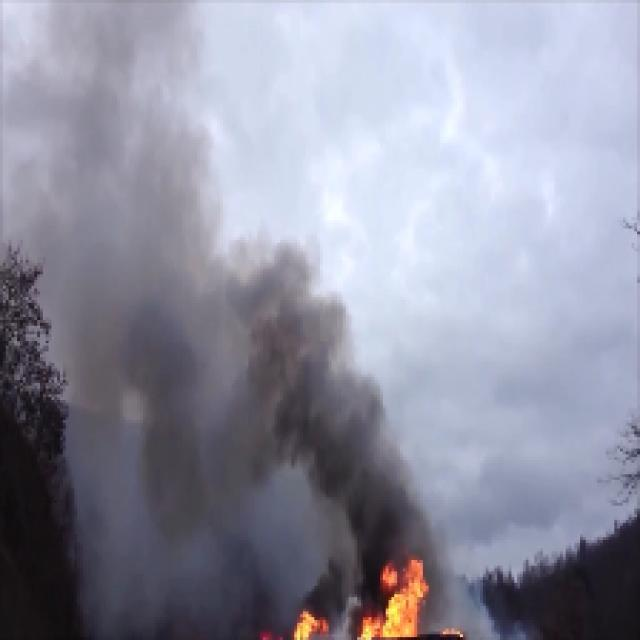Fire: (366, 563, 427, 640), (297, 614, 319, 638)
Smoke: (60, 4, 199, 367), (210, 259, 326, 483), (330, 413, 408, 546)
